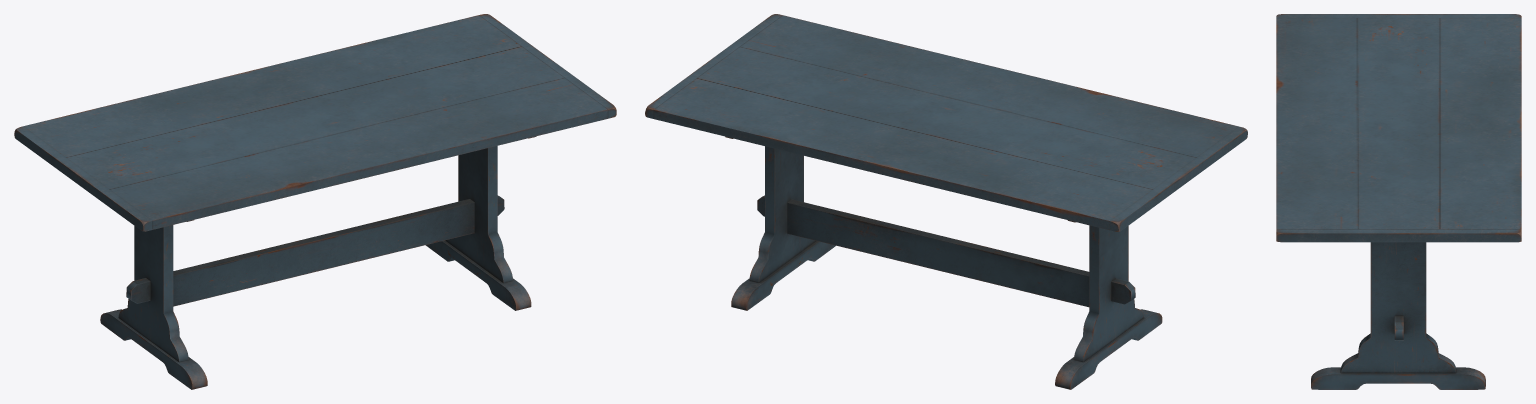
The model's file is painted_wooden_table_2k.gltf.
3 views of the same model, side by side, from view 1: azimuth 30°, elevation 25°; view 2: azimuth 150°, elevation 25°; view 3: azimuth 270°, elevation 25° (orthographic). The views are drawn at different scales.
Parts seen in each view (by area): view 1: painted_wooden_table; view 2: painted_wooden_table; view 3: painted_wooden_table.
Boxes of the visible parts, bbox=[...] form: painted_wooden_table: bbox=[14, 14, 616, 389]; painted_wooden_table: bbox=[645, 14, 1247, 389]; painted_wooden_table: bbox=[1276, 14, 1521, 389].
Bounding box in the file's own units: 2.41 × 0.9586 × 1.14.
1 material, 1 textured.
